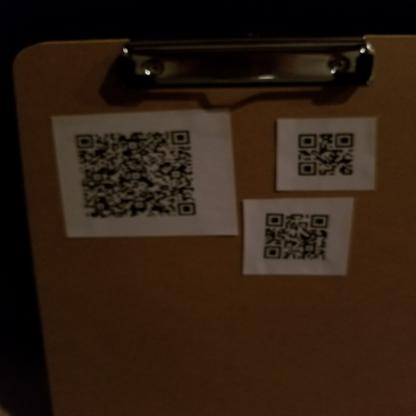qr: (69, 127, 201, 223), (259, 208, 331, 263), (293, 128, 360, 182)
